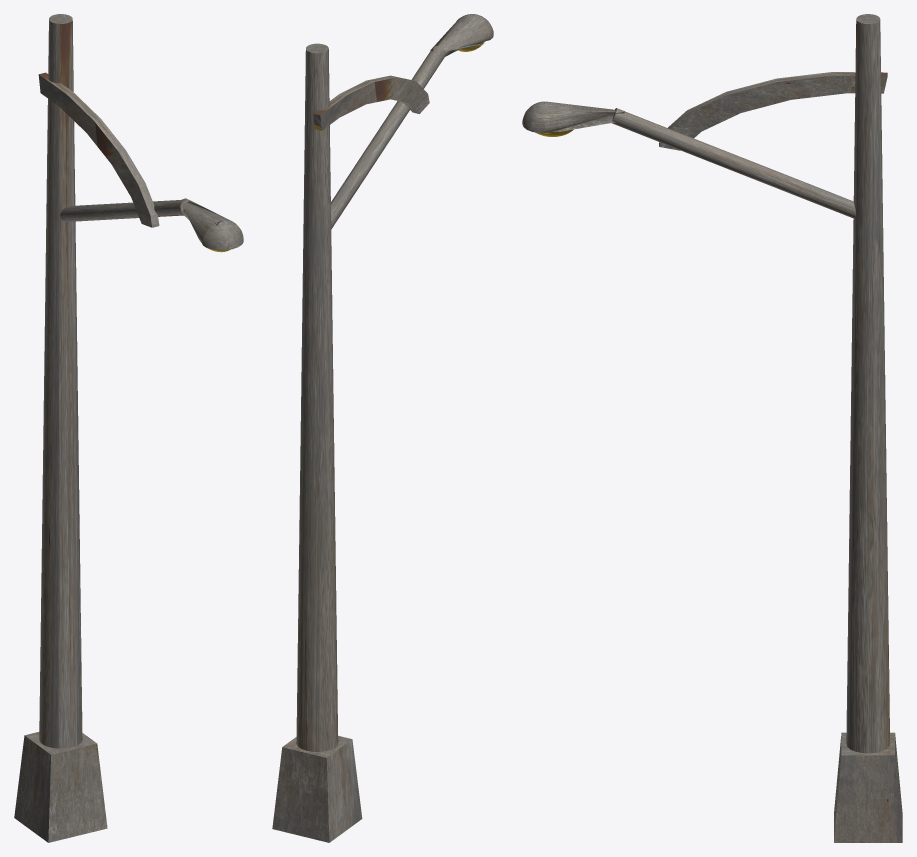
The model's file is StreetLight.fbx.
The picture shows the model from 3 angles, left to right: view 1: azimuth 30°, elevation 25°; view 2: azimuth 150°, elevation 25°; view 3: azimuth 270°, elevation 25°; orthographic projection. The views are drawn at different scales.
Parts seen in each view (by area): view 1: Street_Light; view 2: Street_Light; view 3: Street_Light.
Boxes of the visible parts, x1,y1,x2,y2 form: Street_Light: (14,14,243,842); Street_Light: (272,14,493,842); Street_Light: (522,14,902,842).
Bounding box in the file's own units: 1 × 12.99 × 5.53.
